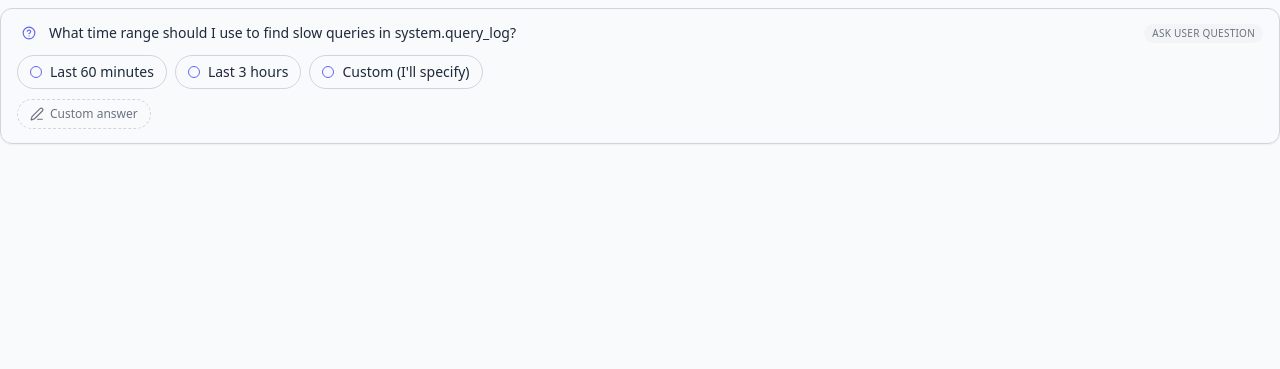
MessageToolAskUserQuestion › still requires typed input for custom options
The image size is (1280, 369).
Step 1. Click the radio button next to "Custom (I'll specify)" → (328, 72), box [322, 66, 334, 78]
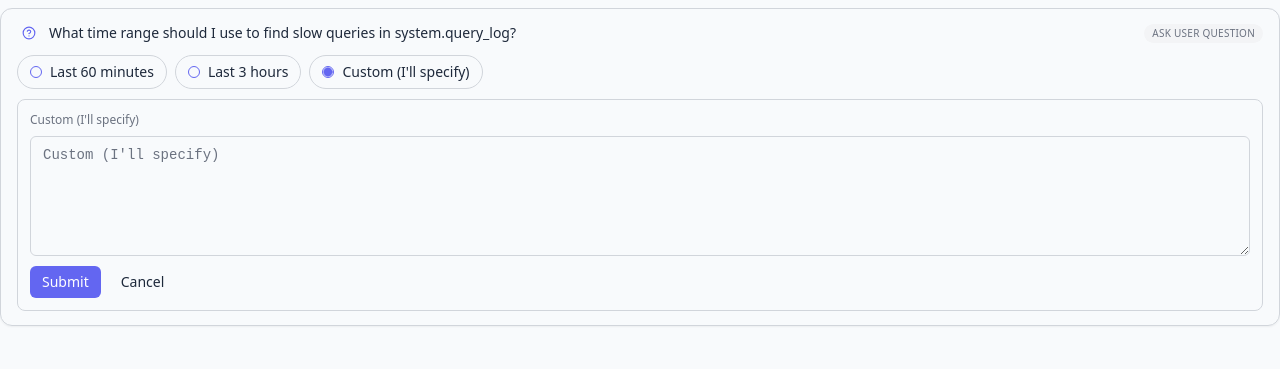
Expected: the text box with placeholder "Custom (I'll specify)" is shown, [30, 136, 1250, 256]
Step 2. Click the button "Submit" → (65, 282), box [30, 266, 101, 298]
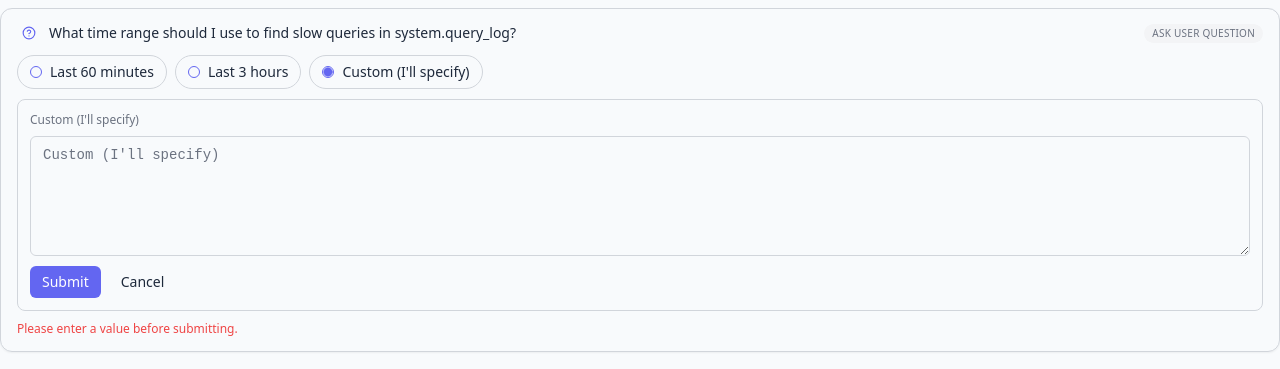
Expected: the text "Please enter a value before submitting." is shown, [17, 320, 238, 337]
